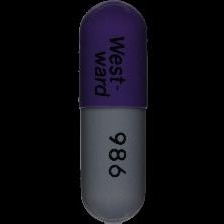43063-194: (0, 0, 224, 224)
